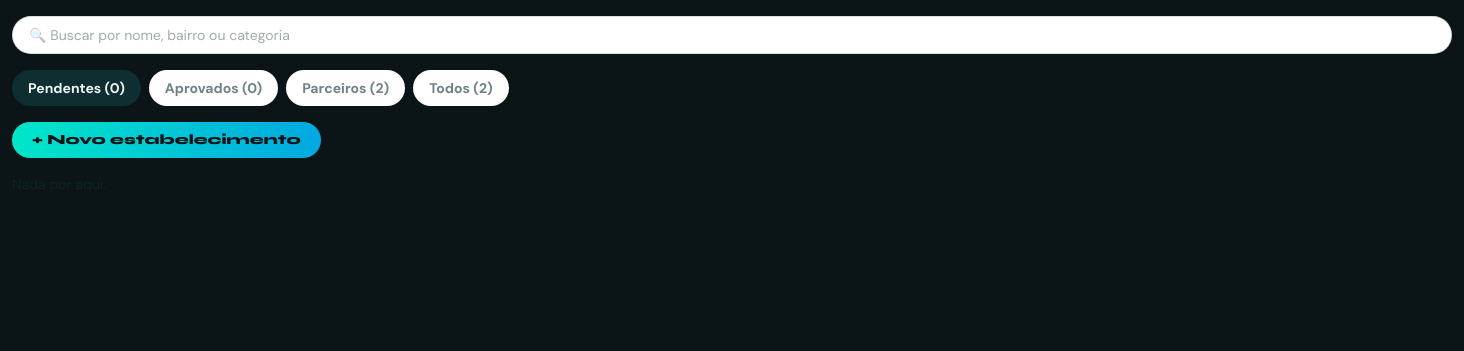
PlacesTabs › flags partners with an offer waiting for approval
Step 1. Click the button "Parceiros (2)" → (346, 88), box [286,70,405,106]
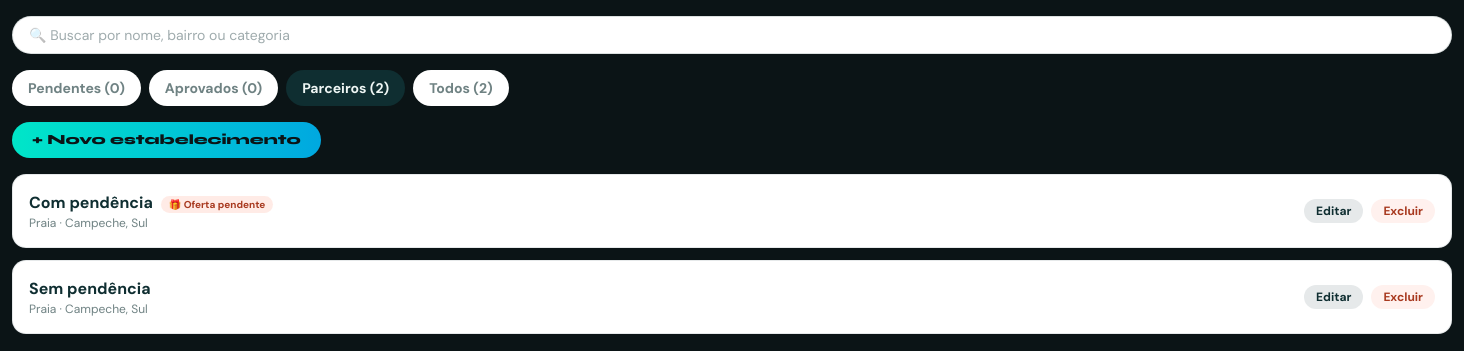
Check: the text "🎁 Oferta pendente" is shown once, box [161,196,273,213]
